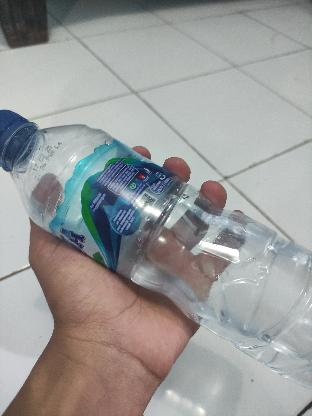Plastic Bottle: (0, 89, 312, 406)
